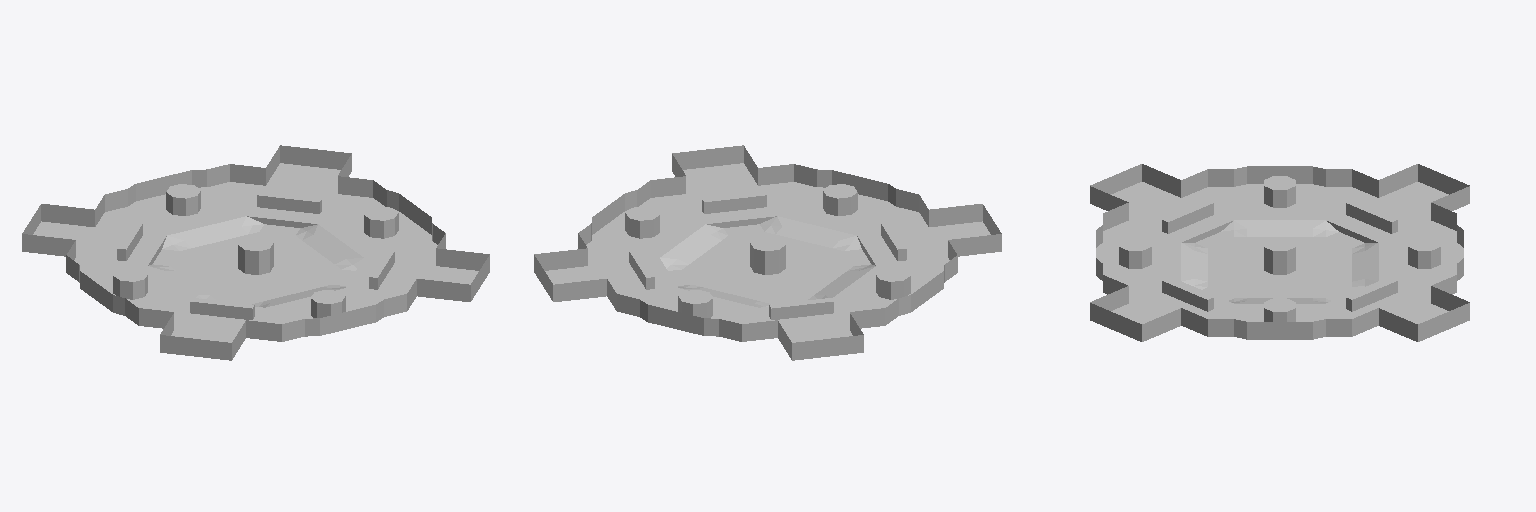
The model's file is ArenaBasicUVRedoTwo.obj.
3 renders of one model, left to right at view 1: azimuth 30°, elevation 25°; view 2: azimuth 150°, elevation 25°; view 3: azimuth 270°, elevation 25°, orthographic.
Visible parts, largest first — view 1: Plane; view 2: Plane; view 3: Plane.
Boxes of the visible parts, <box> form: Plane: <box>22,145,489,360</box>; Plane: <box>534,145,1001,360</box>; Plane: <box>1090,164,1469,341</box>.
Size of the model in its own units: 58 by 4 by 58.